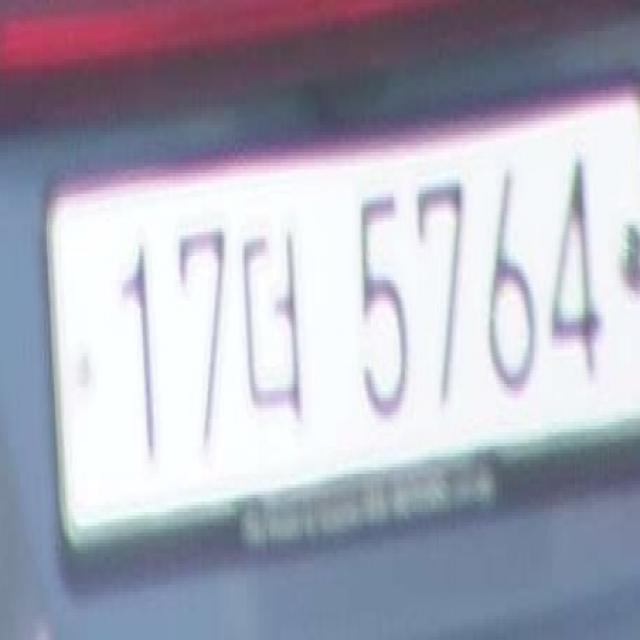1: (116, 228, 166, 471)
4: (542, 146, 608, 402)
5: (358, 169, 411, 443)
6: (473, 145, 542, 419)
7: (172, 215, 232, 467), (414, 163, 470, 422)
deo: (237, 200, 314, 442)
license_plate: (36, 56, 638, 592)
